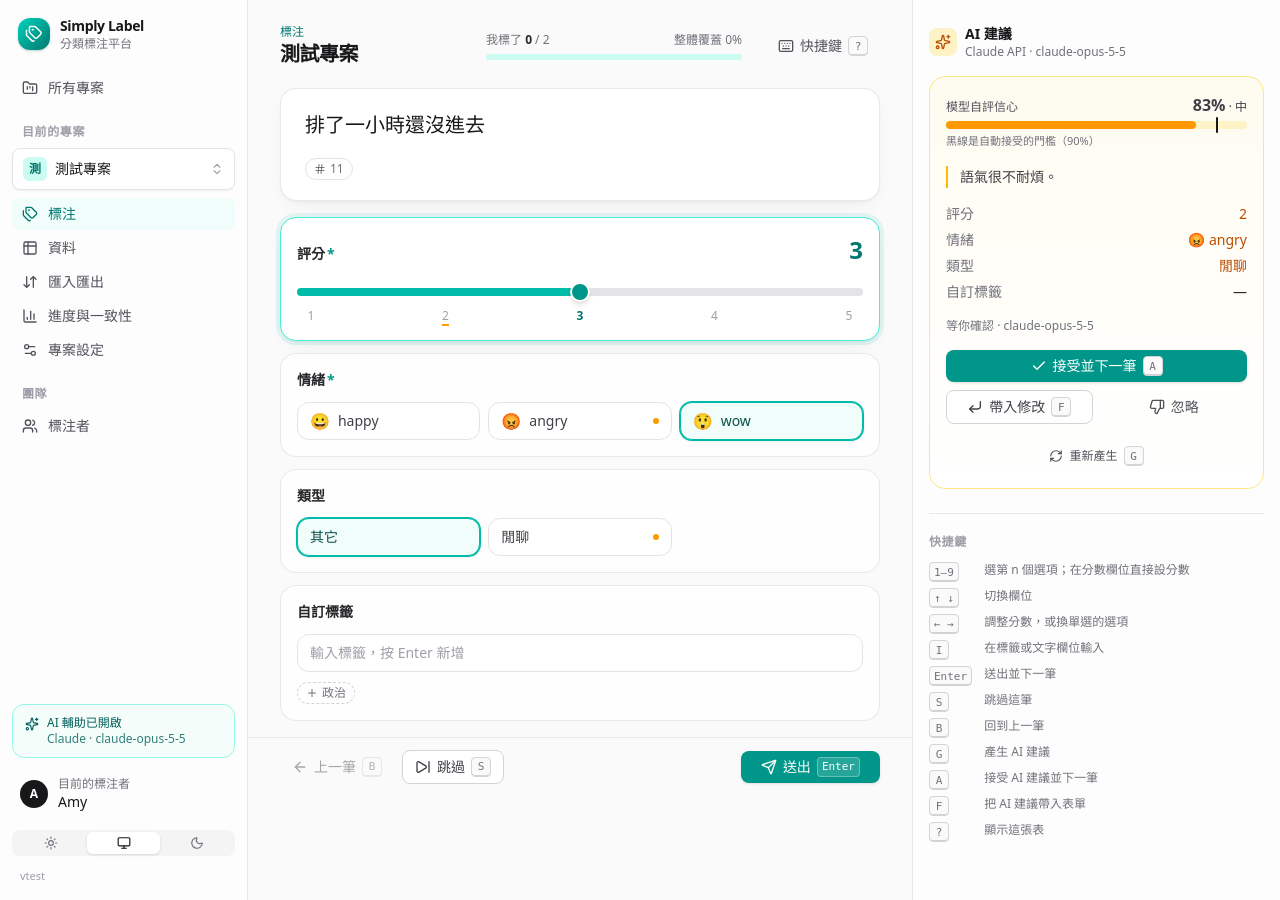
Test: 標注頁 › 顯示 AI 建議，接受後記下是哪一筆建議
Expected: the text "語氣很不耐煩。" is shown, [946,166,1247,188]
Expected: the text "83%" is shown, [1193,94,1226,116]
Click the button "接受並下一筆 A": (1096,366) [946,350,1247,382]
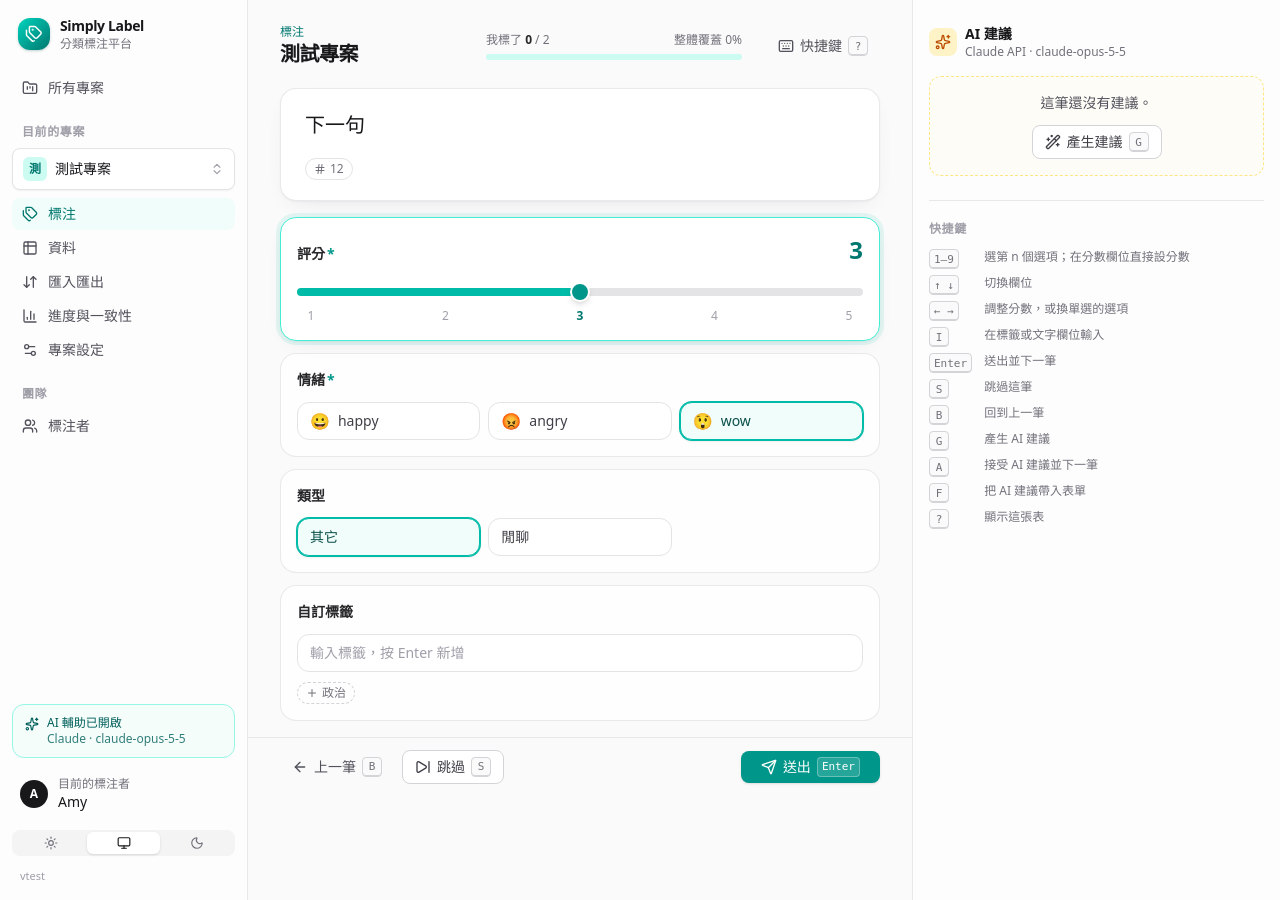
Now the text "下一句" is shown, box [305,111,365,138]
# G 產生新的建議
Type keys "g"
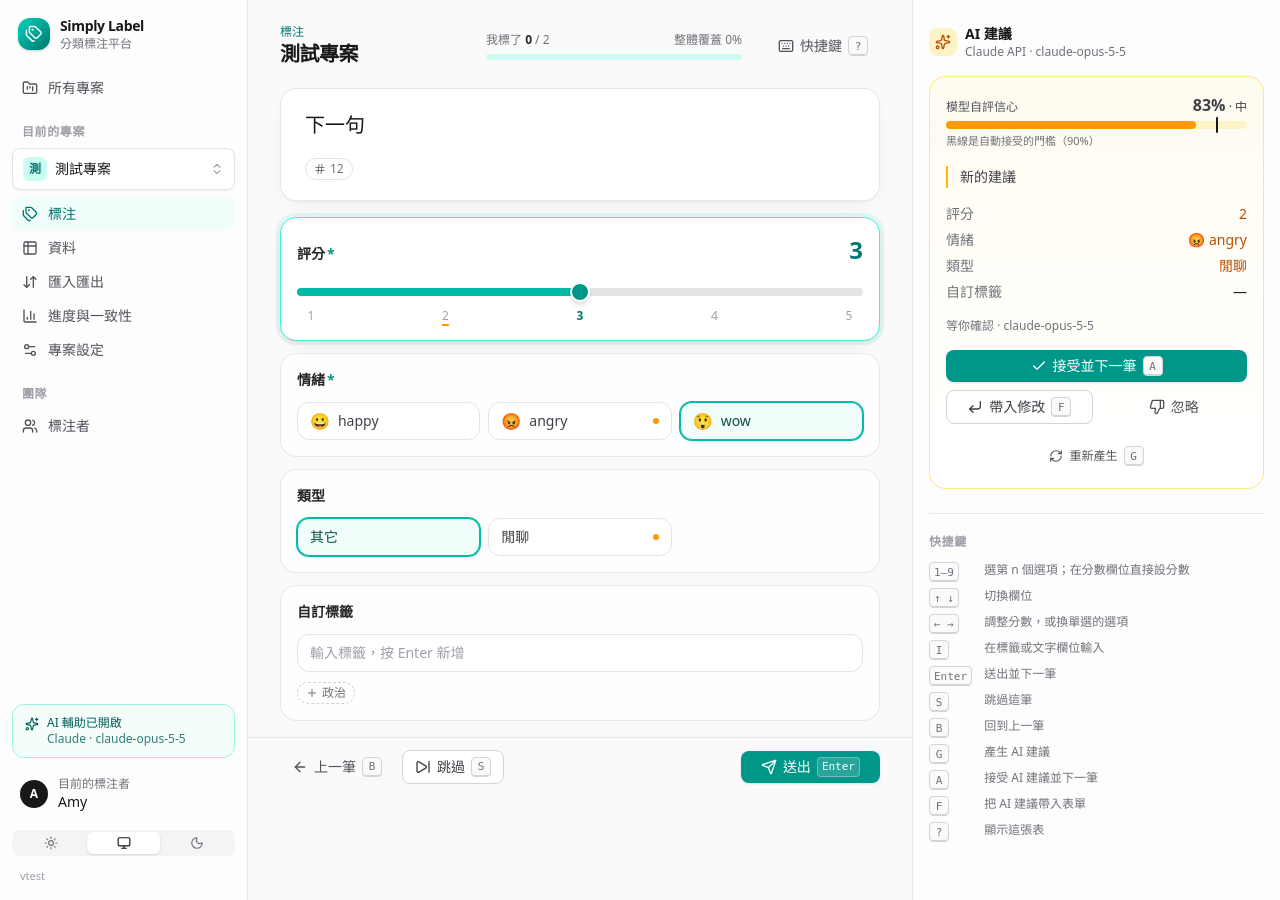
Now the text "新的建議" is shown, box [946,166,1247,188]
